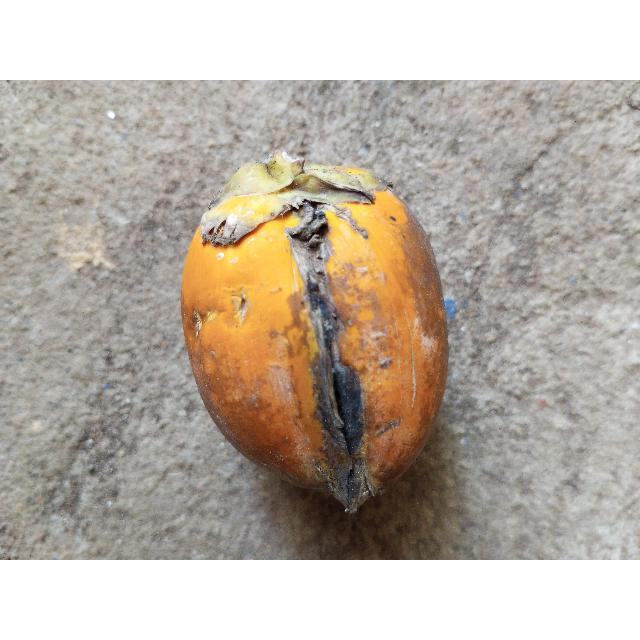damaged: (179, 153, 451, 516)
